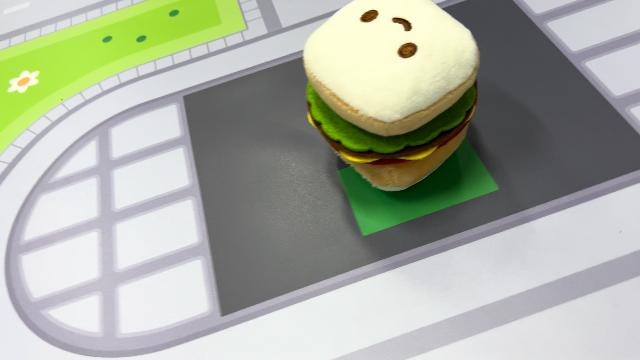sandwich: (300, 1, 482, 193)
